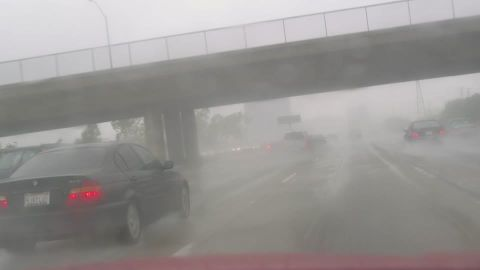car: (0, 141, 187, 249), (403, 119, 442, 142), (282, 131, 313, 152), (445, 116, 475, 135), (312, 132, 325, 145)
